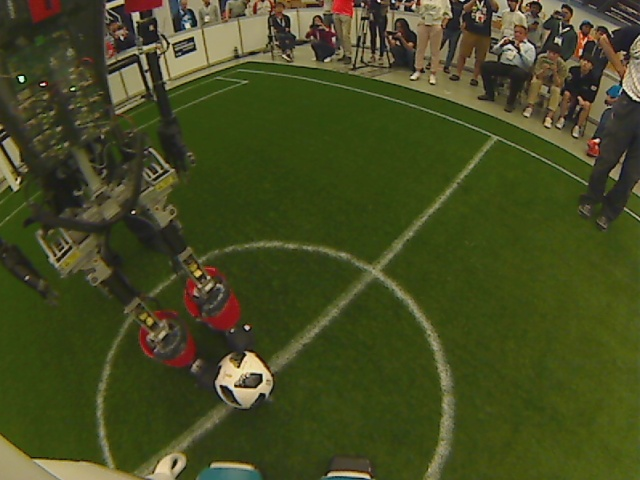ball: (209, 348, 278, 413)
